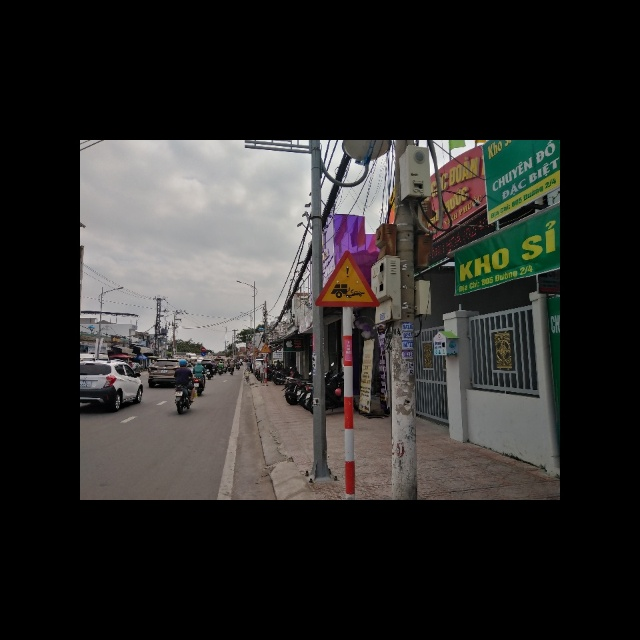Đoạn đường hay xảy ra tai nạn: (315, 248, 380, 310)
Đường đôi: (260, 342, 271, 353)
